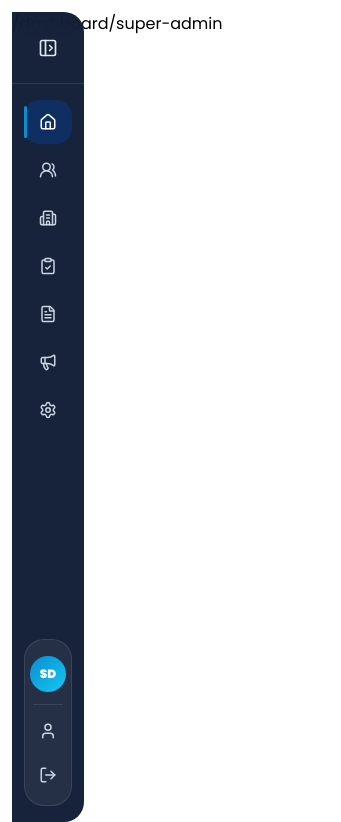
Test case: desktop sidebar rail › keeps role-specific links in the collapsed rail
Click the button named "Governance": (48, 218) x1=24 y1=196 x2=72 y2=240
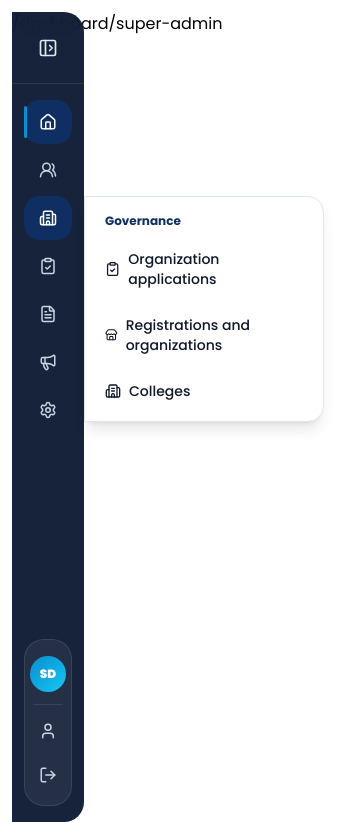
Click the link "Organization applications": (162, 269) x1=105 y1=249 x2=219 y2=289
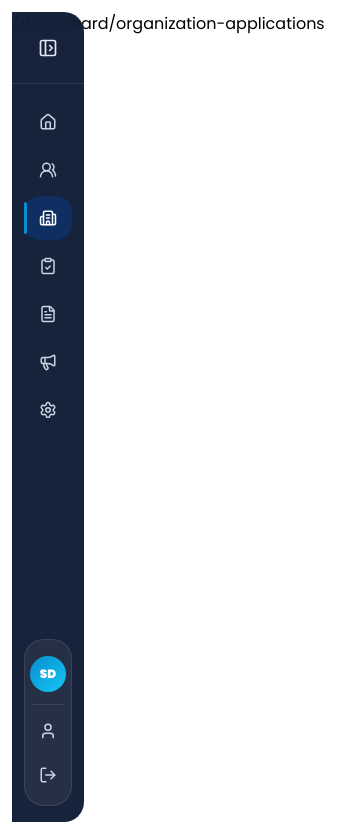
Now the text with test id "route" reads "/dashboard/organization-applications", box x1=12 y1=12 x2=325 y2=35
